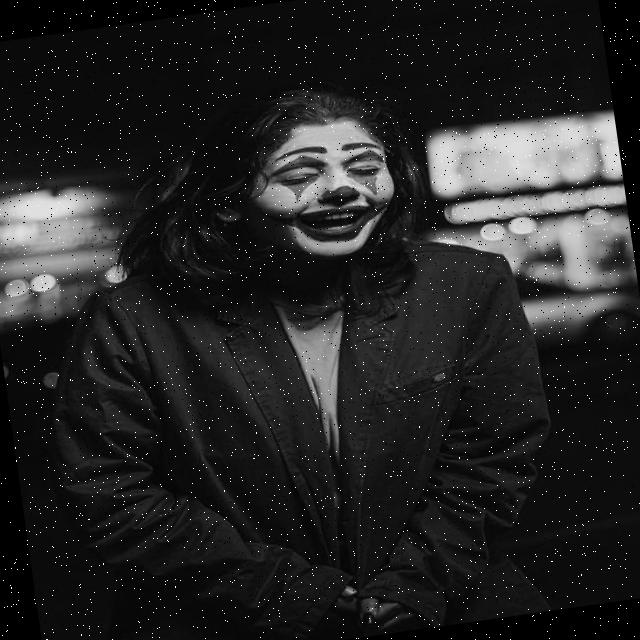Happiness: (243, 108, 408, 270)
